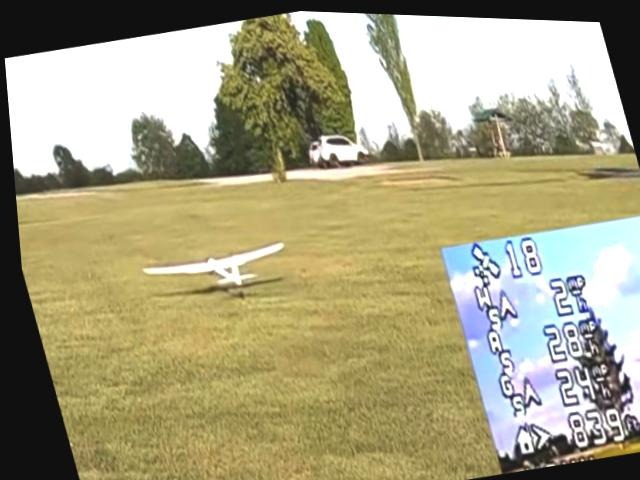iha: (133, 228, 287, 302)
